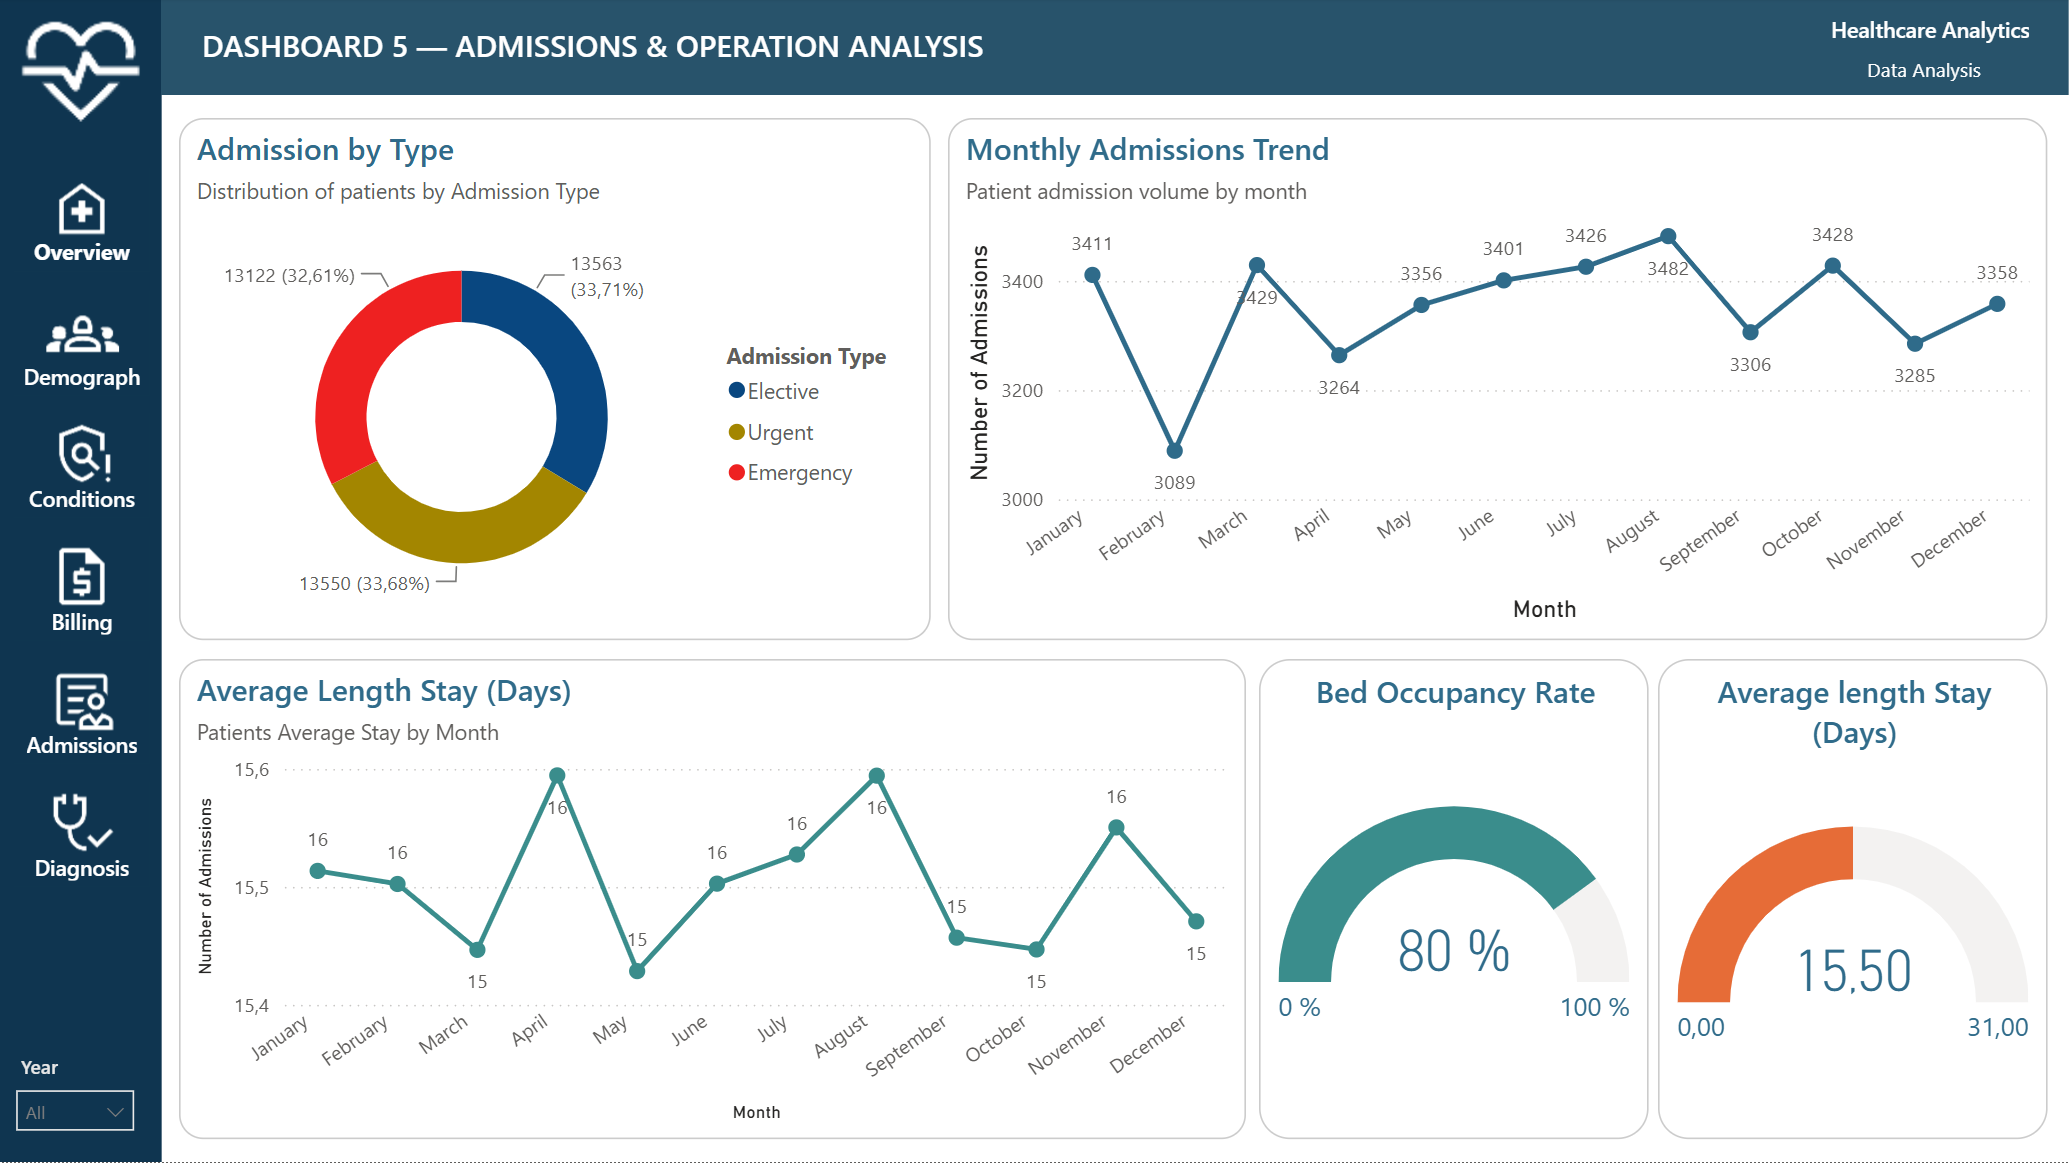

The dashboard page shown, as its layout file describes it:
{"tool":"powerbi","page":{"name":"Admissions","canvas":[1280,720],"ordinal":4},"visuals":[{"type":"group","id":"g1","title":"Navigation Bar","box":[0,0,100,720],"z":0},{"type":"shape","title":"Sidebar","box":[0,0,100,720],"z":1000,"group":"g1"},{"type":"shape","box":[99.9,0,1180.1,60.2],"z":1000},{"type":"actionButton","title":"NAV - Overview","box":[8.6,105,84,64],"z":1500,"group":"g1"},{"type":"textbox","title":"Left header title","box":[120,12,500.7,35],"z":2000},{"type":"actionButton","title":"NAV - Demographics","box":[8.6,181,84,64.5],"z":2000,"group":"g1"},{"type":"textbox","box":[1070.2,5.5,190.4,29.5],"z":3000},{"type":"actionButton","title":"NAV - Conditions","box":[8.6,257,84,64.5],"z":3000,"group":"g1"},{"type":"textbox","box":[1113.2,29.5,153.6,30.1],"z":4000},{"type":"actionButton","title":"NAV - Billing","box":[8.6,333,84,64.5],"z":4000,"group":"g1"},{"type":"image","box":[0,0,99.6,89.7],"z":5000},{"type":"actionButton","title":"NAV - Admissions","box":[8.6,409,84,64.5],"z":5000,"group":"g1"},{"type":"donutChart","title":"Admission by Type","fields":{"Category":["Healthcare Dataset.Admission Type"],"Y":["Healthcare Dataset.Total Patients"]},"box":[110.7,74.2,464.5,322.9],"z":6000},{"type":"actionButton","title":"NAV - Diagnosis","box":[8.6,485,84,64.5],"z":6000,"group":"g1"},{"type":"lineChart","title":"Monthly Admissions Trend","fields":{"Category":["Healthcare Dataset.Date of Admission.Variation.Date Hierarchy.Month"],"Y":["Healthcare Dataset.Total Patients"]},"box":[586.4,74.2,680.4,322.9],"z":7000},{"type":"lineChart","title":"Average Length Stay (Days)","fields":{"Category":["Healthcare Dataset.Date of Admission.Variation.Date Hierarchy.Month"],"Y":["Healthcare Dataset.Average Stay"]},"box":[110.7,408.9,660,296.9],"z":8000},{"type":"gauge","title":"Average length Stay (Days)","fields":{"Y":["Healthcare Dataset.Average Stay"]},"box":[1025.6,408.9,241.2,296.9],"z":9000},{"type":"gauge","fields":{"Y":["Healthcare Dataset.Bed Occupancy Rate"]},"box":[778.8,408.9,241.2,296.9],"z":10000},{"type":"slicer","fields":{"Values":["Healthcare Dataset.Date of Admission.Variation.Date Hierarchy.Year"]},"box":[0,647.6,92.8,55.1],"z":11000}]}

Visuals, with their boxes in screenshot pixels (x1, y1, x2, y2), scaled from the page's 1280x720 canvas onto the 2069x1163 screenshot:
"Navigation Bar" group: 0,0,162,1162
"Sidebar" shape: 0,0,162,1162
shape: 161,0,2068,97
"NAV - Overview" actionButton: 14,170,150,273
"Left header title" textbox: 194,19,1003,76
"NAV - Demographics" actionButton: 14,292,150,397
textbox: 1730,9,2038,57
"NAV - Conditions" actionButton: 14,415,150,519
textbox: 1799,48,2048,96
"NAV - Billing" actionButton: 14,538,150,642
image: 0,0,161,145
"NAV - Admissions" actionButton: 14,661,150,765
"Admission by Type" donutChart: 179,120,930,641
"NAV - Diagnosis" actionButton: 14,783,150,888
"Monthly Admissions Trend" lineChart: 948,120,2048,641
"Average Length Stay (Days)" lineChart: 179,660,1246,1140
"Average length Stay (Days)" gauge: 1658,660,2048,1140
gauge - Healthcare Dataset.Bed Occupancy Rate: 1259,660,1649,1140
slicer - Healthcare Dataset.Date of Admission.Variation.Date Hierarchy.Year: 0,1046,150,1135
